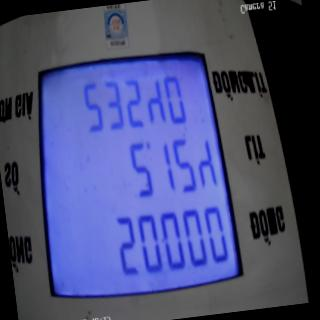screen: (18, 36, 251, 320)
